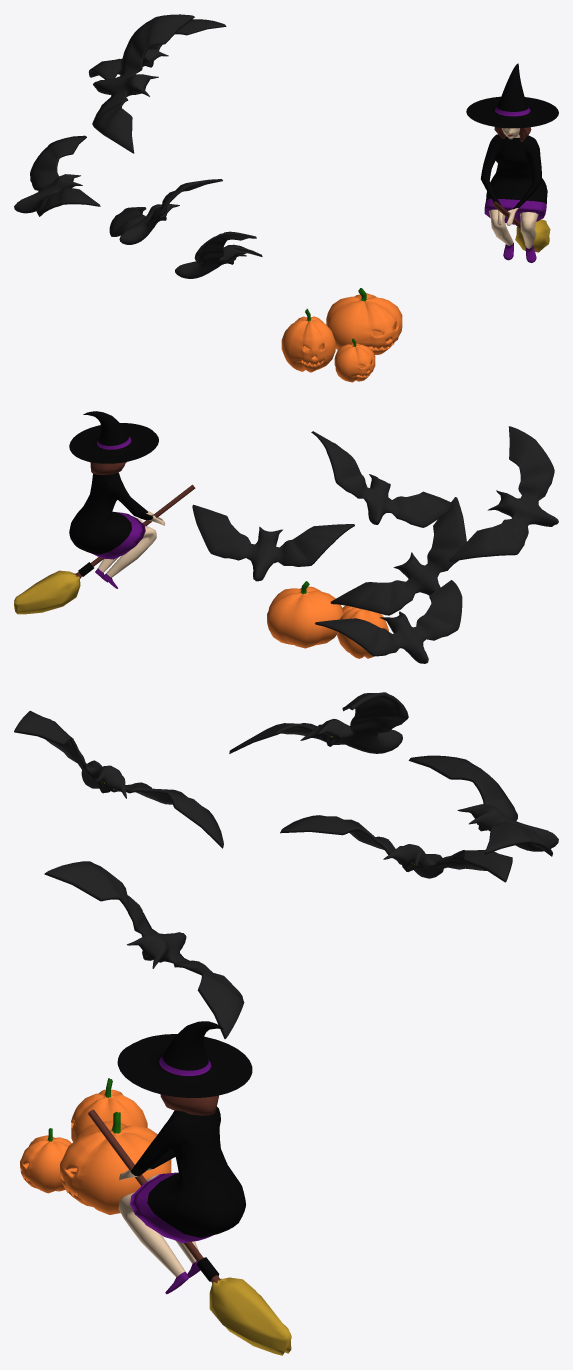
File: hallow-asset.glb
3 views of the same model, one above another, from view 1: azimuth 30°, elevation 25°; view 2: azimuth 150°, elevation 25°; view 3: azimuth 270°, elevation 25° (orthographic). The views are drawn at different scales.
Parts seen in each view (by area): view 1: Cylinder, Line.002, Sphere, Line.003, Sphere.001, Line.001, Line.004, Sphere.002, Line; view 2: Cylinder, Line.001, Line, Line.004, Line.003, Line.002, Sphere, Sphere.001; view 3: Cylinder, Line.004, Sphere, Line, Line.002, Line.001, Line.003, Sphere.002, Sphere.001.
Boxes of the visible parts, <box> form: Cylinder: <box>466,63,558,262</box>; Line.002: <box>92,14,194,153</box>; Sphere: <box>326,288,402,354</box>; Line.003: <box>14,135,100,216</box>; Sphere.001: <box>281,308,335,372</box>; Line.001: <box>109,179,222,244</box>; Line.004: <box>175,231,262,278</box>; Sphere.002: <box>334,338,375,382</box>; Line: <box>88,19,226,79</box>; Cylinder: <box>14,411,195,614</box>; Line.001: <box>449,426,558,562</box>; Line: <box>192,504,354,581</box>; Line.004: <box>330,497,466,615</box>; Line.003: <box>315,580,462,663</box>; Line.002: <box>311,431,453,527</box>; Sphere: <box>267,581,343,648</box>; Sphere.001: <box>337,607,388,658</box>; Cylinder: <box>88,1021,291,1355</box>; Line.004: <box>44,861,244,1038</box>; Sphere: <box>60,1111,171,1214</box>; Line: <box>408,755,558,856</box>; Line.002: <box>229,692,408,753</box>; Line.001: <box>14,710,223,848</box>; Line.003: <box>280,815,512,882</box>; Sphere.002: <box>20,1128,74,1193</box>; Sphere.001: <box>71,1078,147,1142</box>.
Size of the model in its own units: 3.3 by 1.94 by 2.16.
